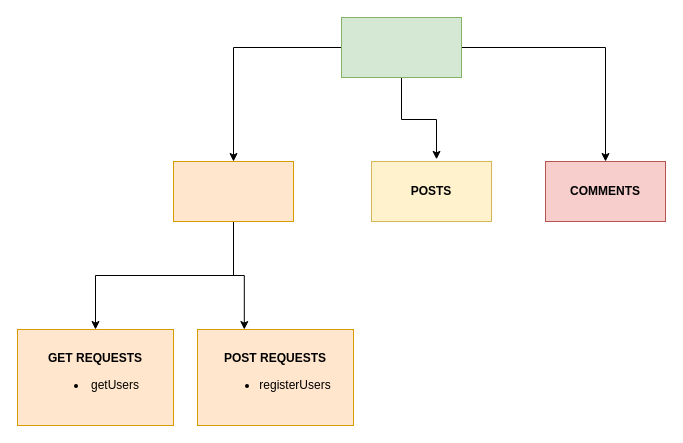
The diagram is 683 pixels wide and 443 high, and some of its shapes have lost their labels. The centre of each missing label's shape, as x and y in pixels:
"API /api/v1" goes at (x=401, y=47).
"USERS" goes at (x=233, y=191).
